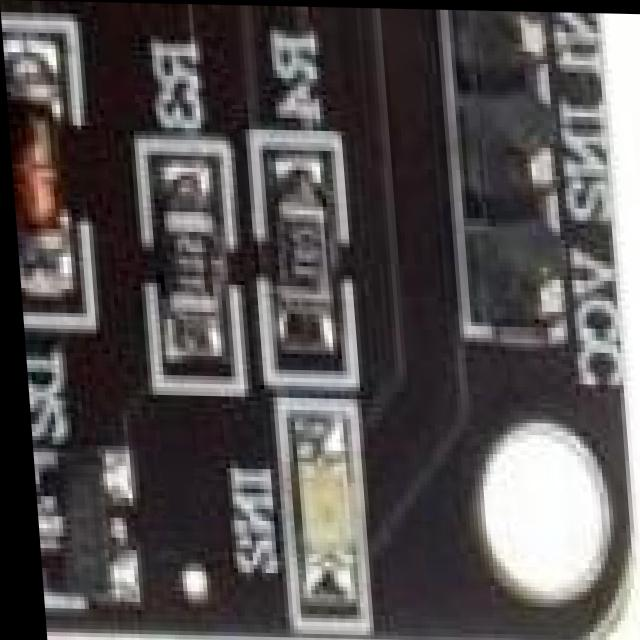IC: (68, 1, 372, 10)
LED: (276, 424, 348, 597)
connector: (444, 8, 624, 351)
diode: (1, 20, 77, 285)
resistor: (263, 130, 363, 338), (150, 174, 222, 348)
transistor: (25, 428, 135, 606)
